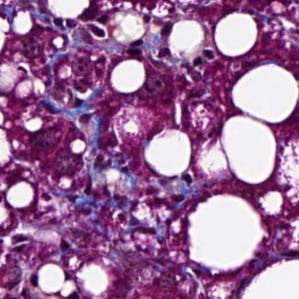inflammation: (167, 170, 198, 203), (188, 45, 221, 72), (82, 19, 111, 43)
